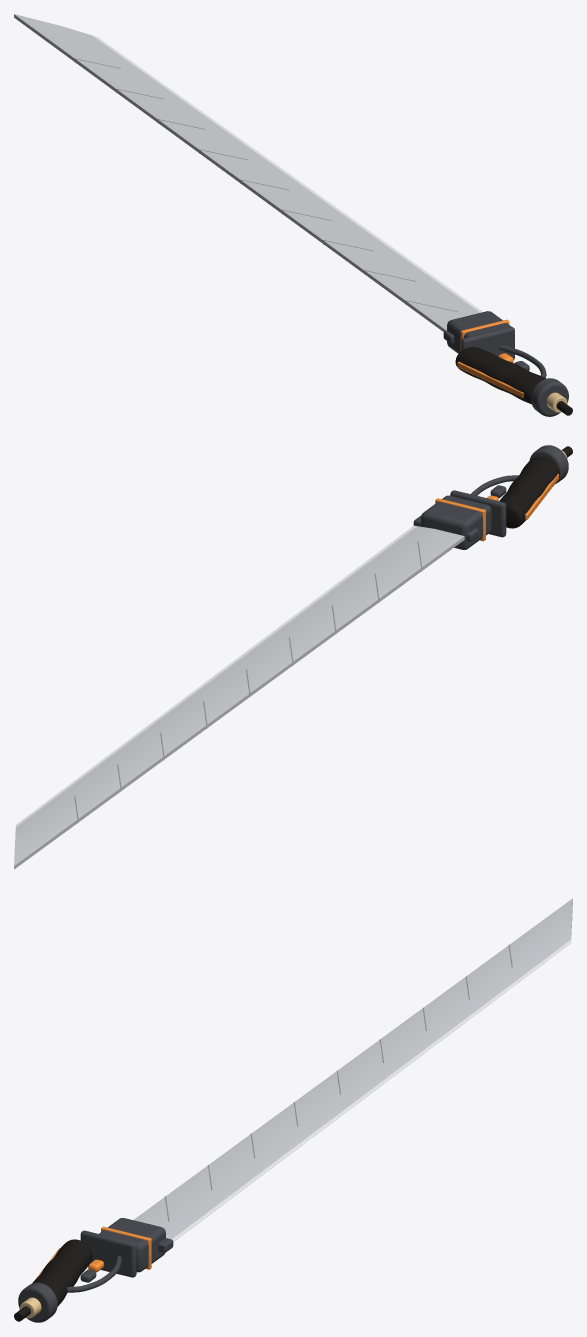
The model's file is SM_ODMSword.fbx.
3 views of the same model, one above another, from view 1: azimuth 30°, elevation 25°; view 2: azimuth 150°, elevation 25°; view 3: azimuth 330°, elevation 25° (orthographic). The views are drawn at different scales.
Parts seen in each view (by area): view 1: SM_ODMSword; view 2: SM_ODMSword; view 3: SM_ODMSword.
Boxes of the visible parts, x1,y1,x2,y2 form: SM_ODMSword: (14, 14, 572, 416); SM_ODMSword: (14, 445, 572, 869); SM_ODMSword: (14, 898, 572, 1322).
Bounding box in the file's own units: 0.0868 × 0.037 × 1.08.
